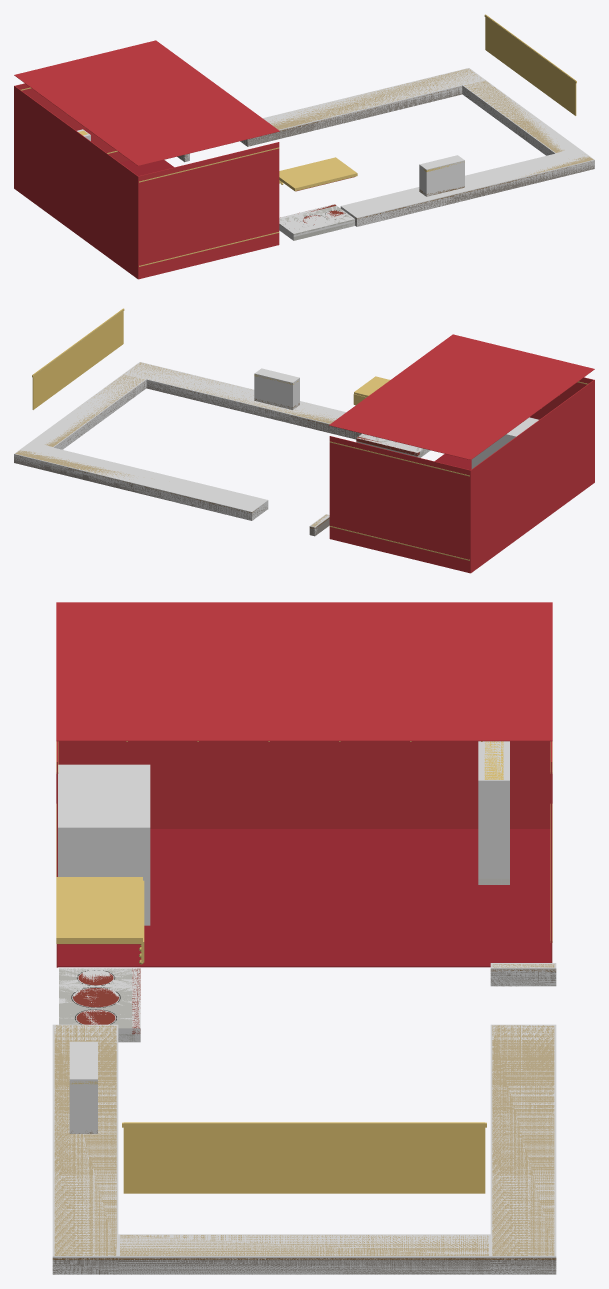
Rendered from kunning-v6-5adbf53a3114.glb.
3 renders of one model, top to bottom at view 1: azimuth 30°, elevation 25°; view 2: azimuth 150°, elevation 25°; view 3: azimuth 270°, elevation 25°, orthographic. The views are drawn at different scales.
Visible parts, largest first — view 1: merged_red_cloth, COL_kang_n, COL_kang_s_w, merged_kang_mat, merged_kang_brick, merged_yellow_silk, COL_kang_w, merged_gold_lacquer, COL_shrine, COL_stove, merged_r55_stove_pale, merged_kang_wood (+1 smaller); view 2: merged_red_cloth, COL_kang_s_w, COL_kang_n, merged_kang_brick, merged_yellow_silk, COL_kang_w, merged_kang_mat, COL_shrine, merged_gold_lacquer, COL_bed, COL_stove, merged_kang_wood; view 3: merged_red_cloth, warm_carpet, merged_kang_mat, merged_yellow_silk, COL_kang_w, COL_kang_s_w, COL_bed, COL_kang_n, merged_gold_lacquer, merged_kang_brick, COL_screen, COL_shrine (+5 smaller).
Boxes of the visible parts, x1,y1,x2,y2 form: merged_red_cloth: [14, 40, 279, 279]; COL_kang_n: [340, 148, 594, 226]; COL_kang_s_w: [240, 68, 485, 146]; merged_kang_mat: [270, 69, 593, 176]; merged_kang_brick: [177, 87, 594, 226]; merged_yellow_silk: [485, 14, 576, 115]; COL_kang_w: [462, 80, 577, 155]; merged_gold_lacquer: [21, 14, 576, 266]; COL_shrine: [419, 155, 464, 196]; COL_stove: [279, 204, 354, 240]; merged_r55_stove_pale: [279, 206, 354, 240]; merged_kang_wood: [280, 86, 584, 218]; merged_red_cloth: [329, 334, 594, 573]; COL_kang_s_w: [14, 442, 268, 520]; COL_kang_n: [123, 362, 359, 438]; merged_kang_brick: [14, 381, 361, 536]; merged_yellow_silk: [32, 308, 123, 409]; COL_kang_w: [31, 374, 146, 449]; merged_kang_mat: [15, 362, 336, 526]; COL_shrine: [254, 368, 299, 409]; merged_gold_lacquer: [32, 308, 587, 560]; COL_bed: [471, 417, 538, 468]; COL_stove: [357, 433, 430, 457]; merged_kang_wood: [16, 383, 329, 528]; merged_red_cloth: [56, 602, 552, 967]; warm_carpet: [57, 829, 550, 967]; merged_kang_mat: [54, 964, 554, 1255]; merged_yellow_silk: [123, 1122, 485, 1193]; COL_kang_w: [118, 1234, 490, 1274]; COL_kang_s_w: [490, 1024, 556, 1274]; COL_bed: [58, 764, 150, 925]; COL_kang_n: [52, 1024, 118, 1274]; merged_gold_lacquer: [56, 741, 552, 1127]; merged_kang_brick: [52, 971, 556, 1274]; COL_screen: [478, 741, 509, 884]; COL_shrine: [69, 1041, 97, 1133].
Bounding box in the file's own units: 29.7 × 7.08 × 14.2.
